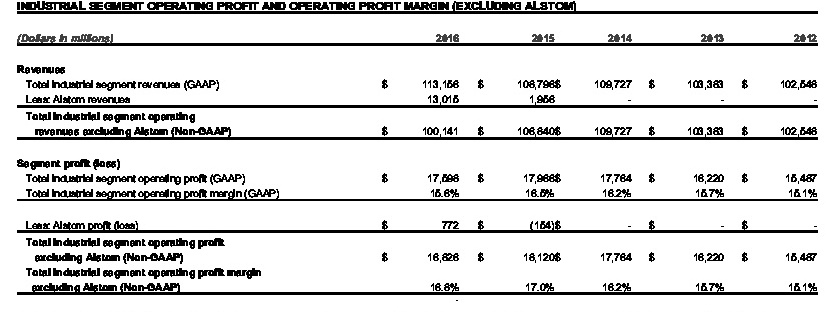table: (0, 0, 833, 312)
